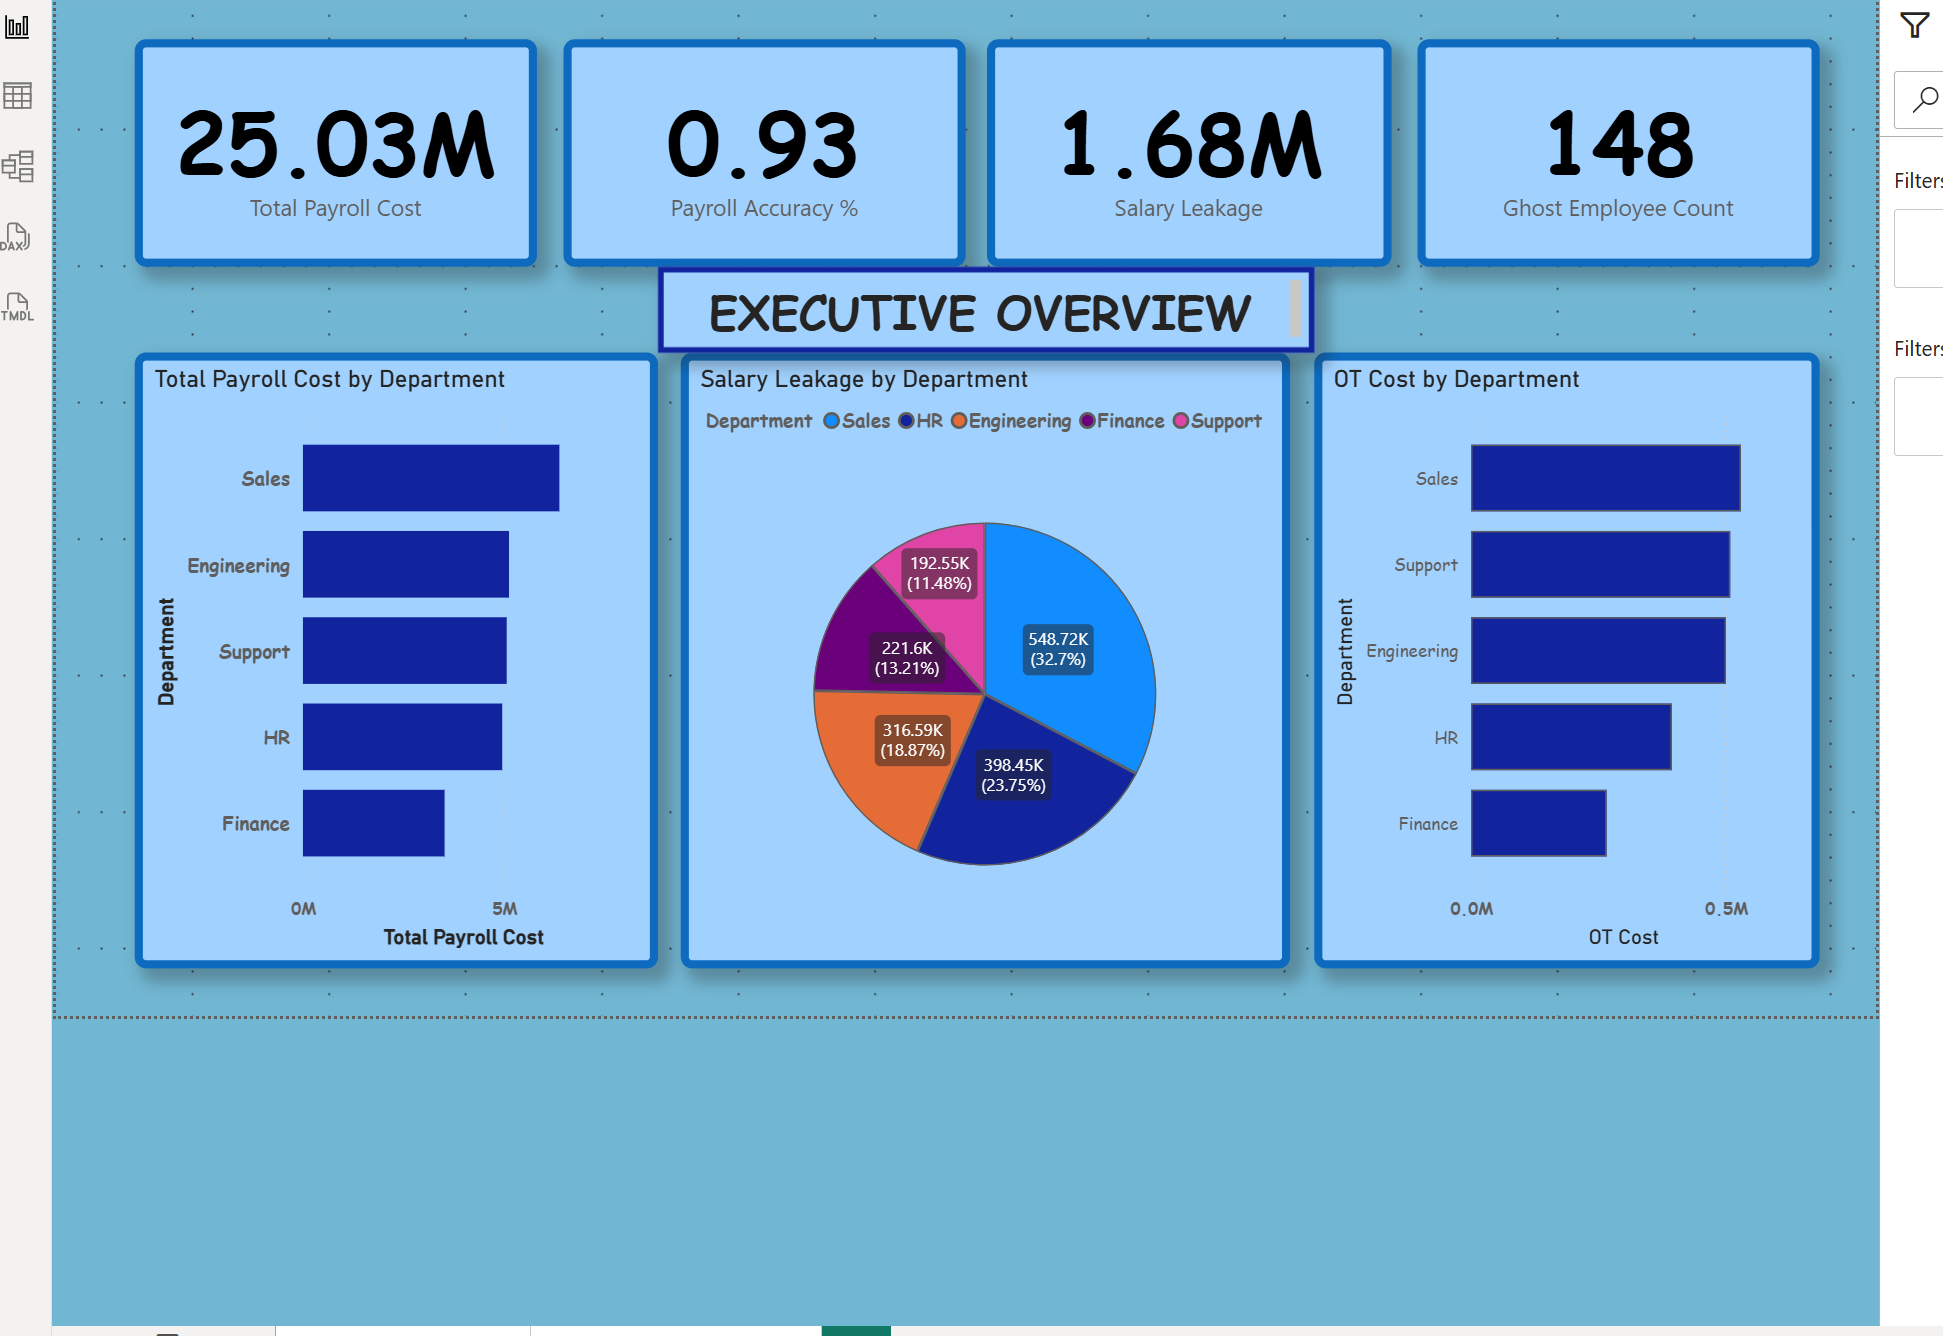

What the dashboard file says about the page in this screenshot:
{"tool":"powerbi","page":{"name":"Executive Overview","canvas":[1280,720],"ordinal":0},"visuals":[{"type":"card","fields":{"Values":["Payroll_Data.Total Payroll Cost"]},"box":[55.4,33.2,283.1,160],"z":0},{"type":"card","fields":{"Values":["Payroll_Data.Payroll Accuracy %"]},"box":[356.9,33.2,283.1,160],"z":1},{"type":"card","fields":{"Values":["Payroll_Data.Salary Leakage"]},"box":[654.8,33.2,284.3,160],"z":2},{"type":"card","fields":{"Values":["Payroll_Data.Ghost Employee Count"]},"box":[957.5,33.2,283.1,160],"z":3},{"type":"clusteredBarChart","fields":{"Category":["Payroll_Data.Department"],"Y":["Payroll_Data.Total Payroll Cost"]},"box":[55.4,253.5,368,433.2],"z":4},{"type":"pieChart","fields":{"Category":["Payroll_Data.Department"],"Y":["Payroll_Data.Salary Leakage"]},"box":[439.4,253.5,428.3,433.2],"z":5},{"type":"barChart","fields":{"Y":["Payroll_Data.OT Cost"],"Category":["Payroll_Data.Department"]},"box":[884.9,253.5,355.7,433.2],"z":6},{"type":"textbox","box":[423.4,193.2,461.5,60.3],"z":7}]}

Visuals, with their boxes on the page's 1280x720 design canvas (x1, y1, x2, y2). These are canvas units, not pixel positions in the 1943x1336 screenshot, which may show the page scaled, cropped or inside an application window:
card - Payroll_Data.Total Payroll Cost: <bbox>55, 33, 338, 193</bbox>
card - Payroll_Data.Payroll Accuracy %: <bbox>357, 33, 640, 193</bbox>
card - Payroll_Data.Salary Leakage: <bbox>655, 33, 939, 193</bbox>
card - Payroll_Data.Ghost Employee Count: <bbox>958, 33, 1241, 193</bbox>
clusteredBarChart - Payroll_Data.Department x Payroll_Data.Total Payroll Cost: <bbox>55, 254, 423, 687</bbox>
pieChart - Payroll_Data.Department x Payroll_Data.Salary Leakage: <bbox>439, 254, 868, 687</bbox>
barChart - Payroll_Data.OT Cost x Payroll_Data.Department: <bbox>885, 254, 1241, 687</bbox>
textbox: <bbox>423, 193, 885, 254</bbox>
